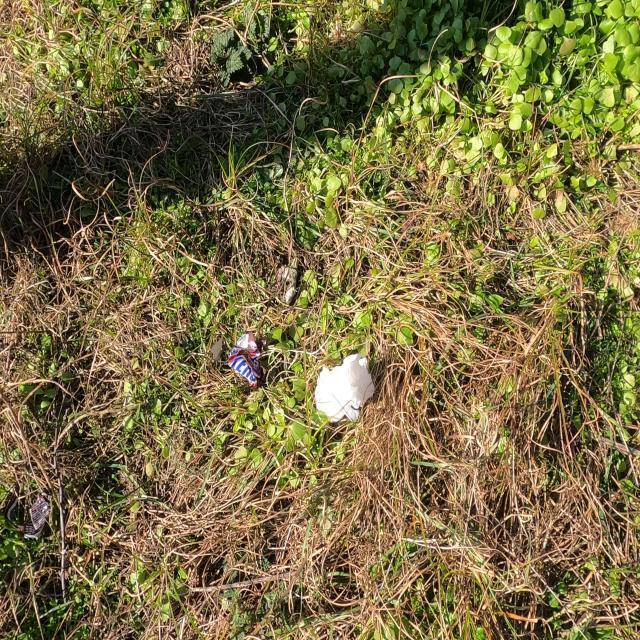Paper: (314, 353, 376, 423)
Plastic: (4, 486, 51, 542), (227, 332, 269, 392)
